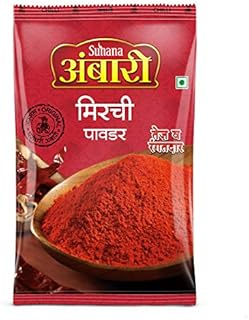Chilli Powder: (14, 6, 196, 311)
